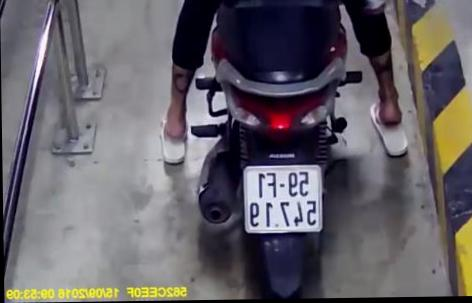License_Plate: (238, 157, 331, 240)
